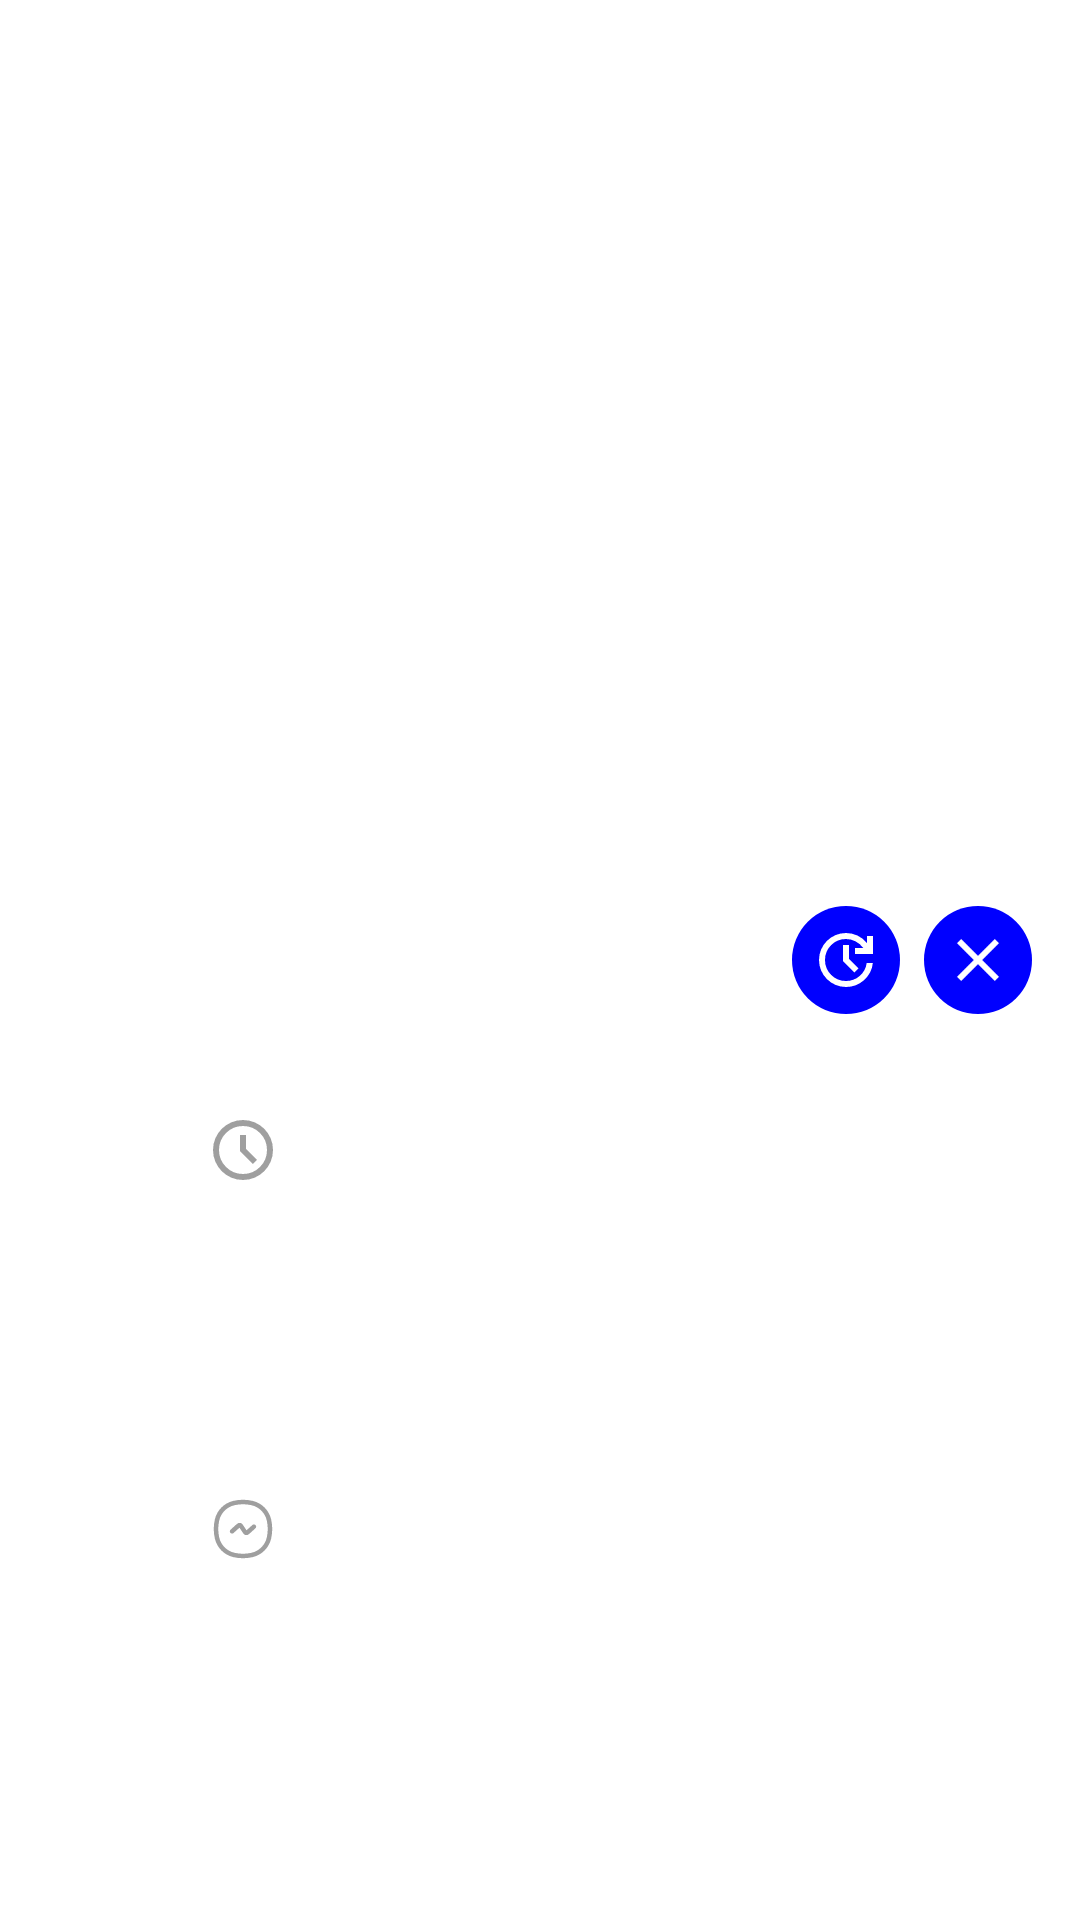

Where icons sit on this 1080 × 1920 app screen, as [x1=x1, y1=y1, x2=x2, y2=y2]:
close: [x1=924, y1=906, x2=1032, y2=1014]
